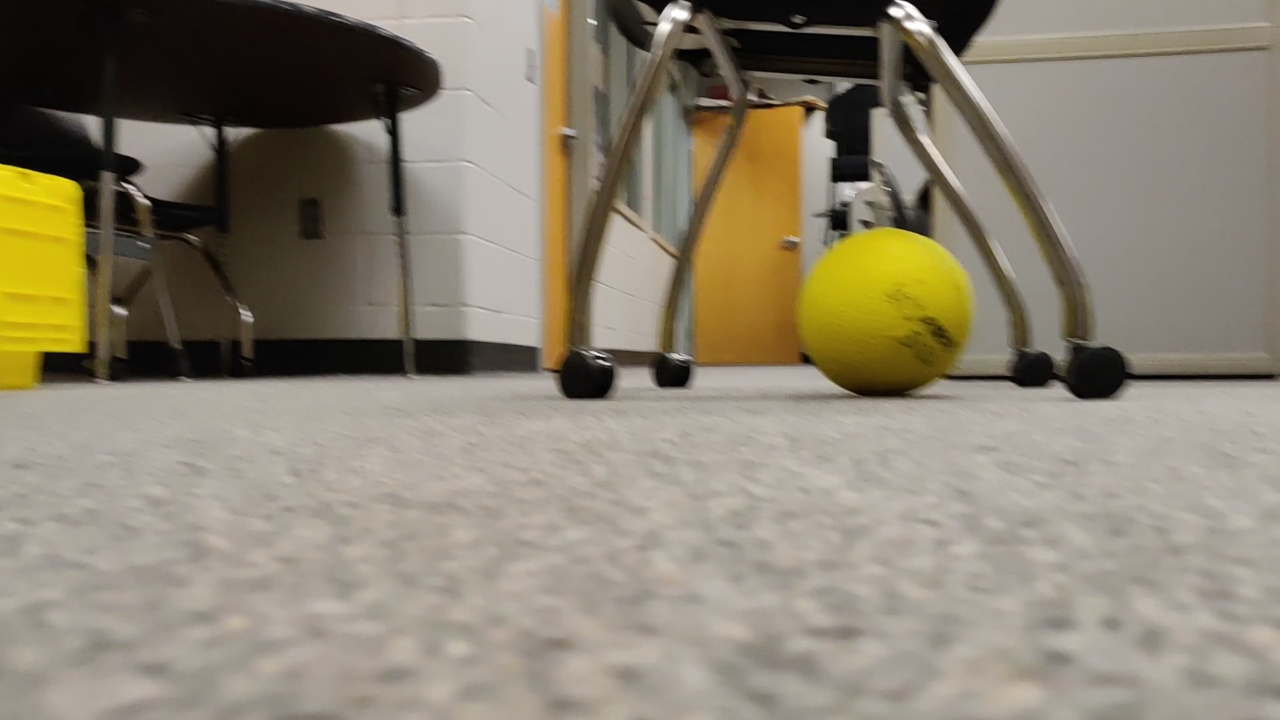Ball: (800, 225, 979, 409)
